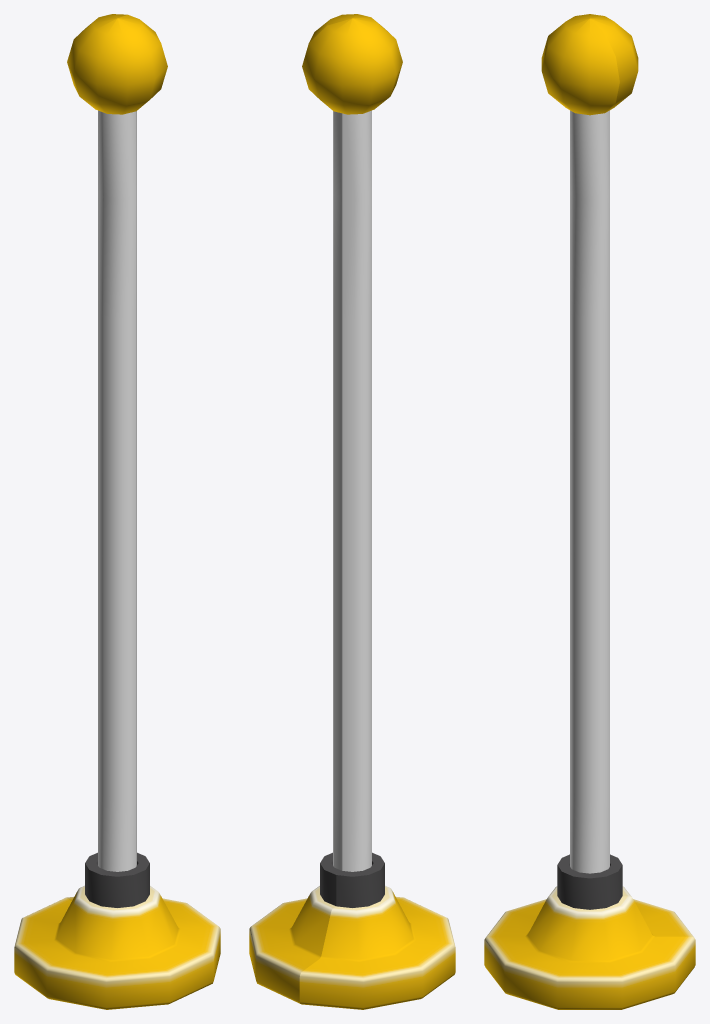
Rendered from pole.fbx.
3 renders of one model, left to right at view 1: azimuth 30°, elevation 25°; view 2: azimuth 150°, elevation 25°; view 3: azimuth 270°, elevation 25°, orthographic.
Visible parts, largest first — view 1: pCylinder2__Mt_Body, pCylinder1__Mt_Gold, pCylinder1__Mt_Gold.001, pPipe1__Mt_Body; view 2: pCylinder2__Mt_Body, pCylinder1__Mt_Gold, pCylinder1__Mt_Gold.001, pPipe1__Mt_Body; view 3: pCylinder2__Mt_Body, pCylinder1__Mt_Gold, pCylinder1__Mt_Gold.001, pPipe1__Mt_Body.
Part boxes in pixels (<box>): pCylinder2__Mt_Body: <box>98,110,136,871</box>; pCylinder1__Mt_Gold: <box>14,885,220,1009</box>; pCylinder1__Mt_Gold.001: <box>67,14,167,114</box>; pPipe1__Mt_Body: <box>85,852,149,907</box>; pCylinder2__Mt_Body: <box>333,110,371,871</box>; pCylinder1__Mt_Gold: <box>249,885,455,1009</box>; pCylinder1__Mt_Gold.001: <box>302,14,402,114</box>; pPipe1__Mt_Body: <box>320,852,384,907</box>; pCylinder2__Mt_Body: <box>570,110,609,873</box>; pCylinder1__Mt_Gold: <box>484,886,695,1009</box>; pCylinder1__Mt_Gold.001: <box>541,14,638,115</box>; pPipe1__Mt_Body: <box>557,854,622,909</box>.
Size of the model in its own units: 0.9633 by 5.03 by 1.01.
Materials: 2 (2 with a texture image).
